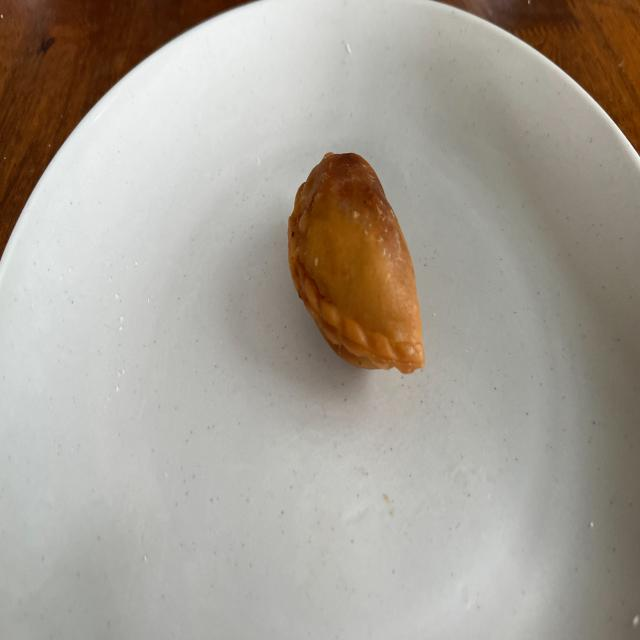karipap: (288, 153, 425, 373)
